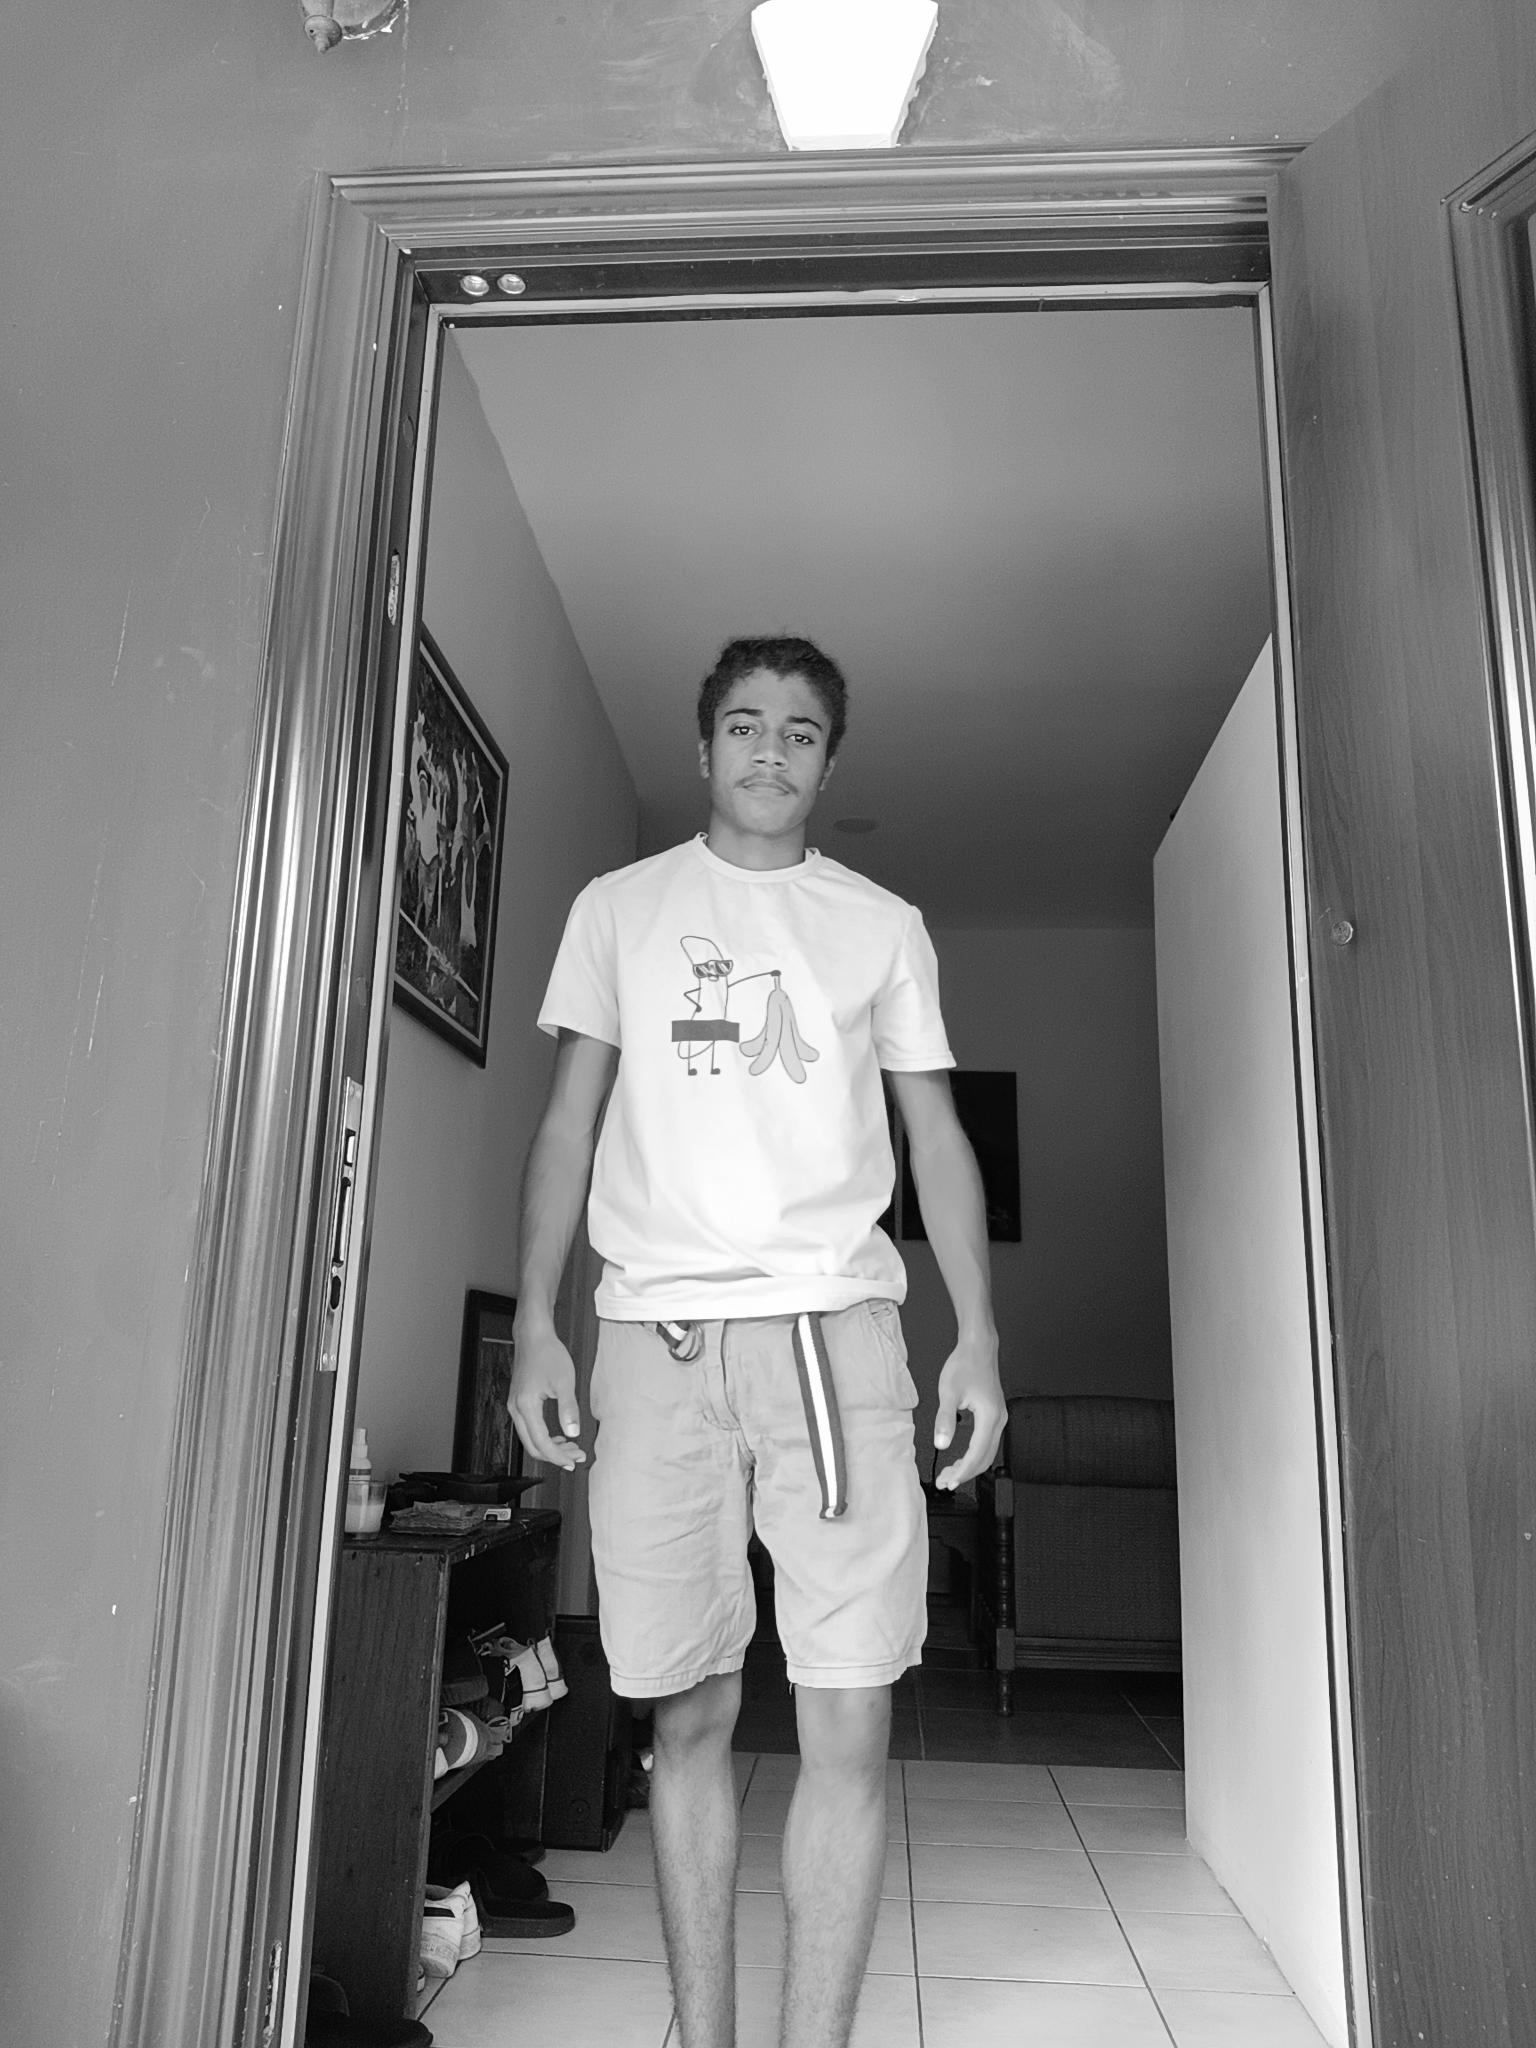front: (500, 629, 1013, 2040)
